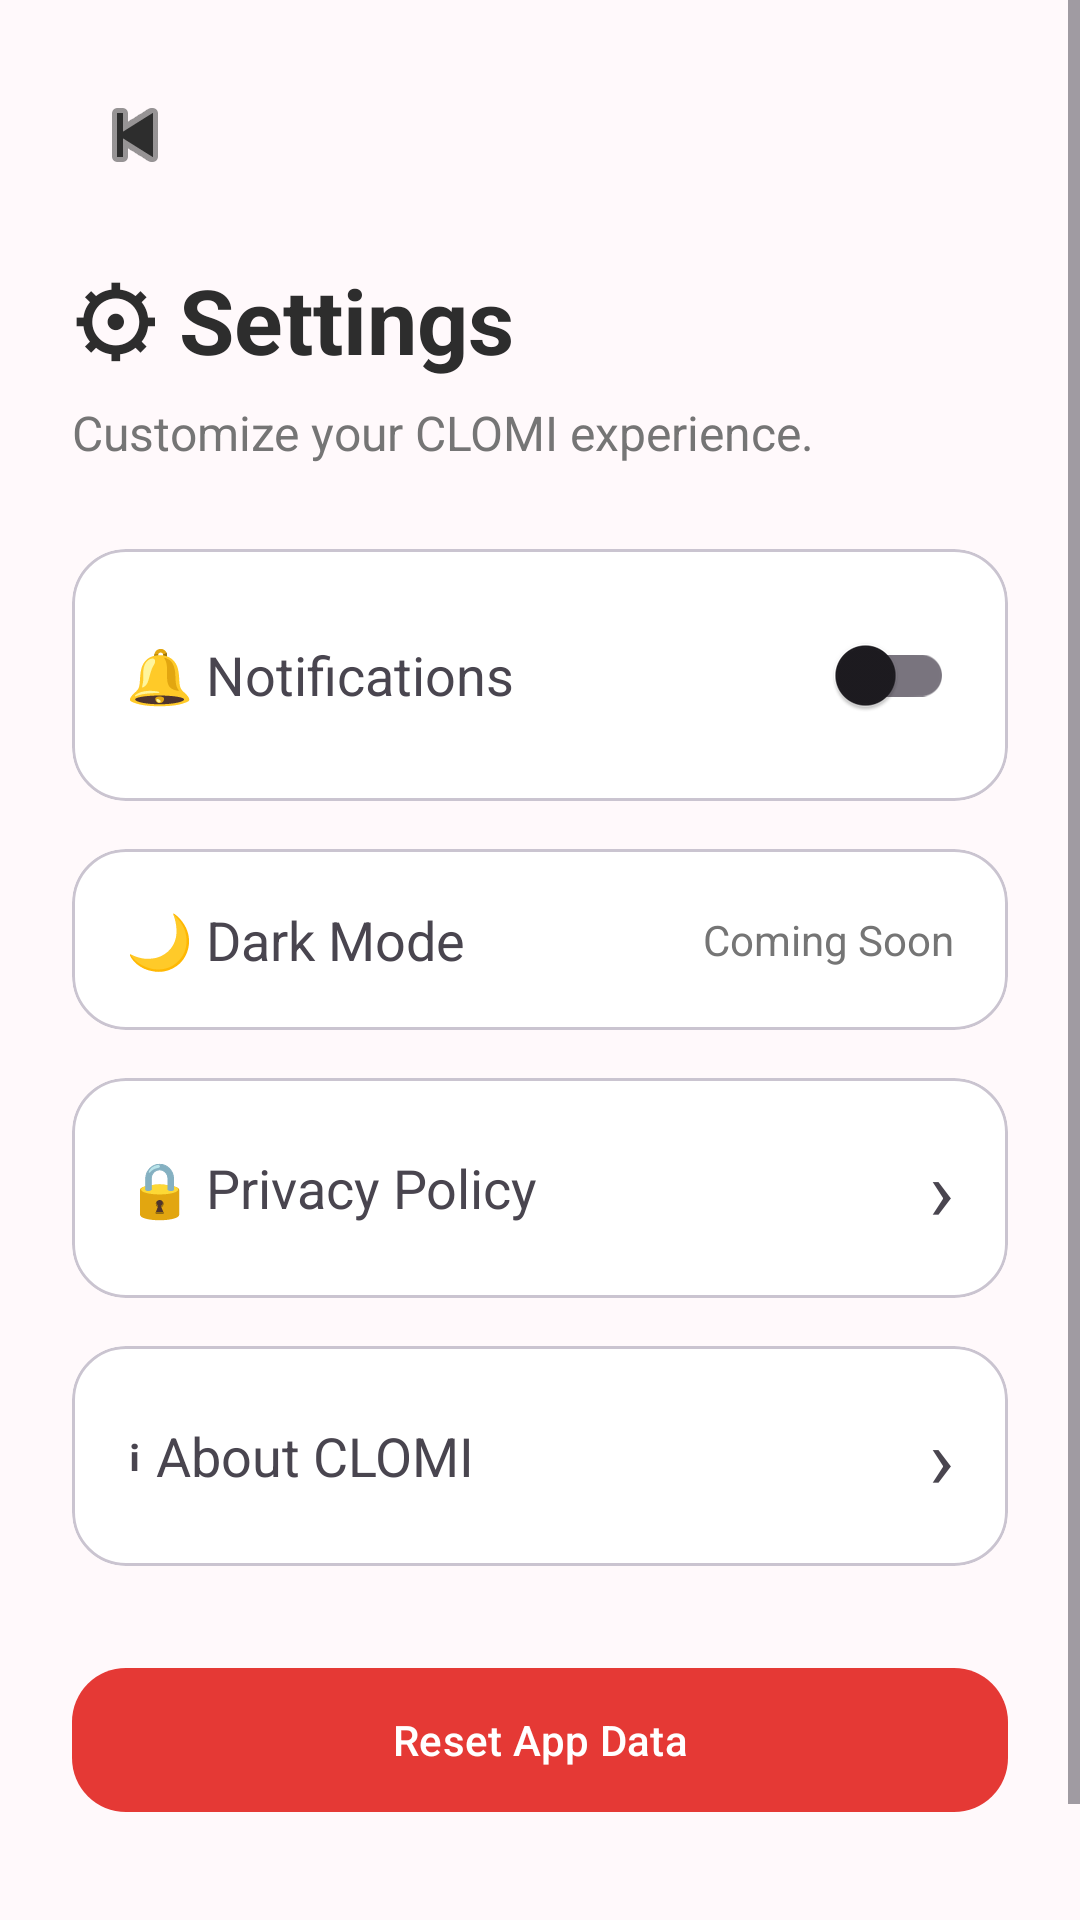

Locate icon controls on the screen. Image size 1080x1920, boxes as (x1, y1, x2, y2).
previous: (112, 108, 158, 162)
